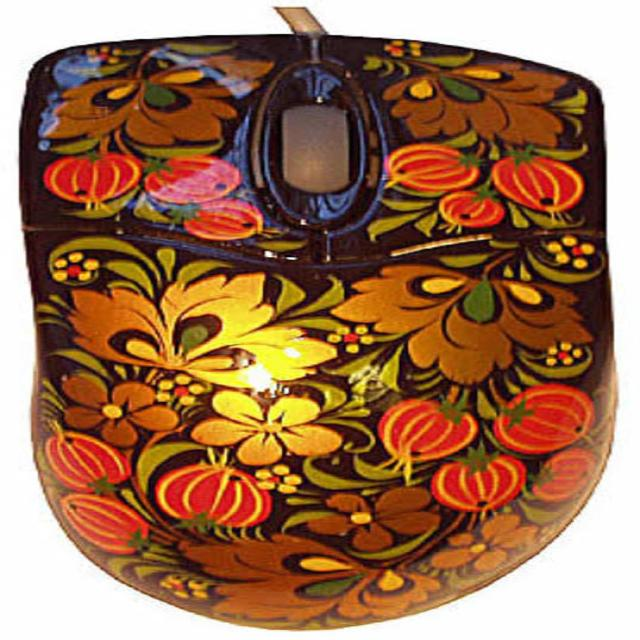Computer-mouse: (17, 29, 621, 629), (29, 29, 611, 629)
